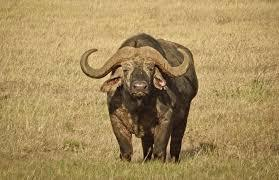Buffalo: (82, 16, 219, 167)
